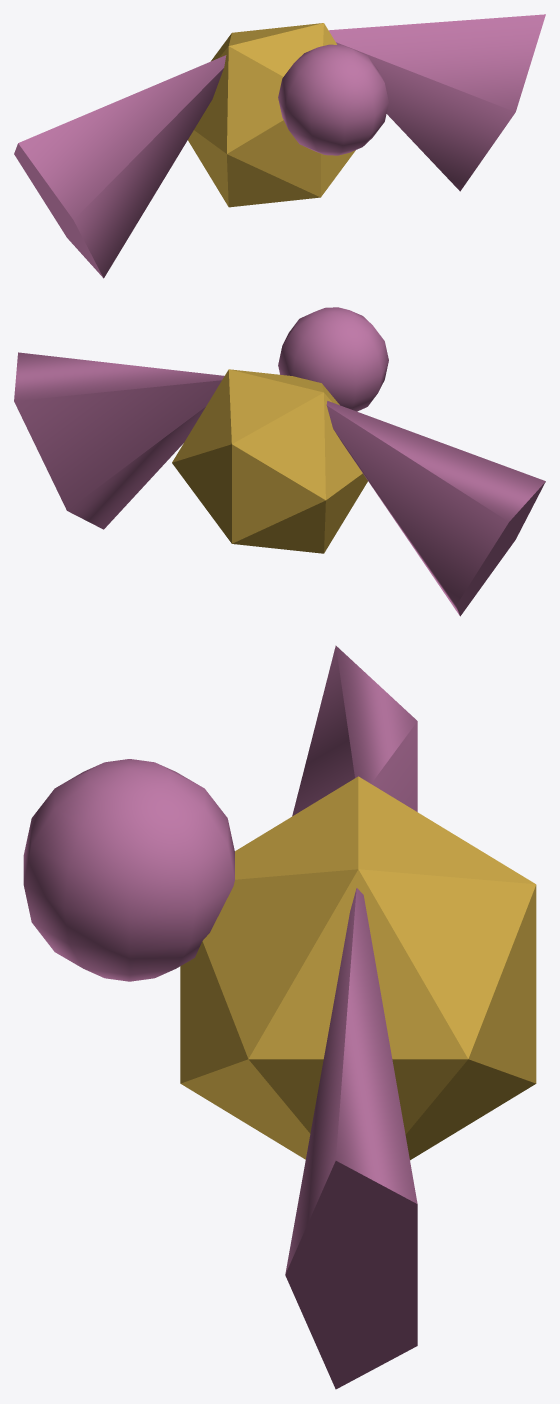
File: starling.glb
3 views of the same model, one above another, from view 1: azimuth 30°, elevation 25°; view 2: azimuth 150°, elevation 25°; view 3: azimuth 270°, elevation 25° (orthographic). The views are drawn at different scales.
Visible parts, largest first — view 1: wing_-1, wing_1, body_core, head_core; view 2: body_core, wing_1, wing_-1, head_core; view 3: body_core, wing_1, head_core, wing_-1.
Boxes of the visible parts, bbox=[...] form: wing_-1: bbox=[14, 55, 226, 278]; wing_1: bbox=[328, 14, 545, 191]; body_core: bbox=[188, 23, 355, 207]; head_core: bbox=[278, 44, 388, 155]; body_core: bbox=[172, 369, 367, 553]; wing_1: bbox=[14, 352, 224, 529]; wing_-1: bbox=[326, 401, 545, 616]; head_core: bbox=[278, 307, 388, 411]; body_core: bbox=[180, 776, 536, 1160]; wing_1: bbox=[285, 888, 417, 1389]; head_core: bbox=[23, 759, 234, 981]; wing_-1: bbox=[292, 645, 417, 816].
Size of what is drawn, in the model's own units: 4.37 by 1.77 by 1.84.
